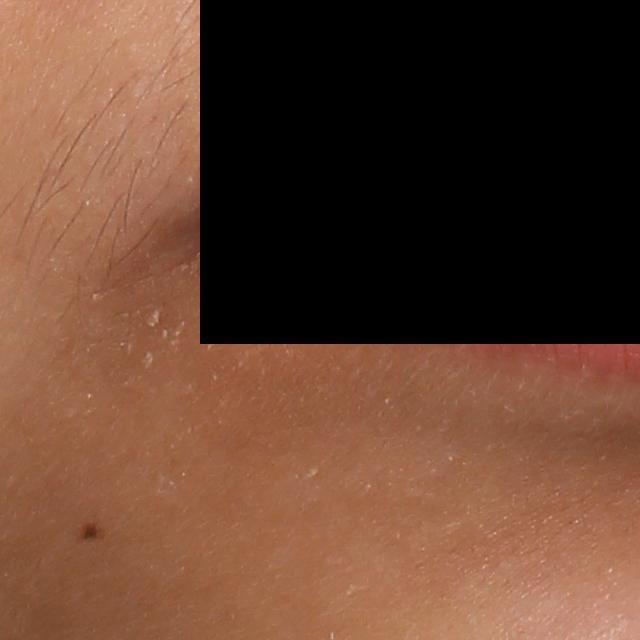nevus: (78, 511, 105, 544)
